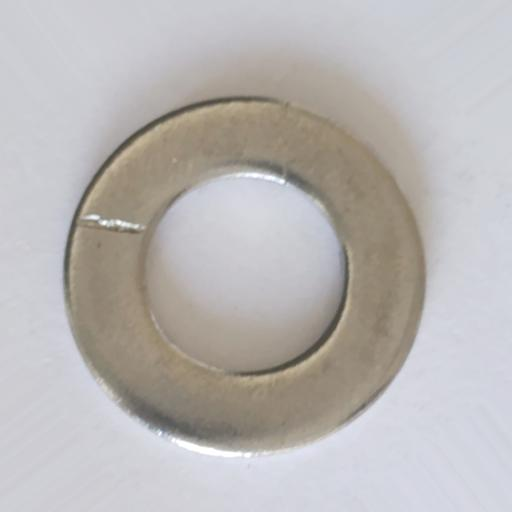scratch: (73, 213, 149, 237)
